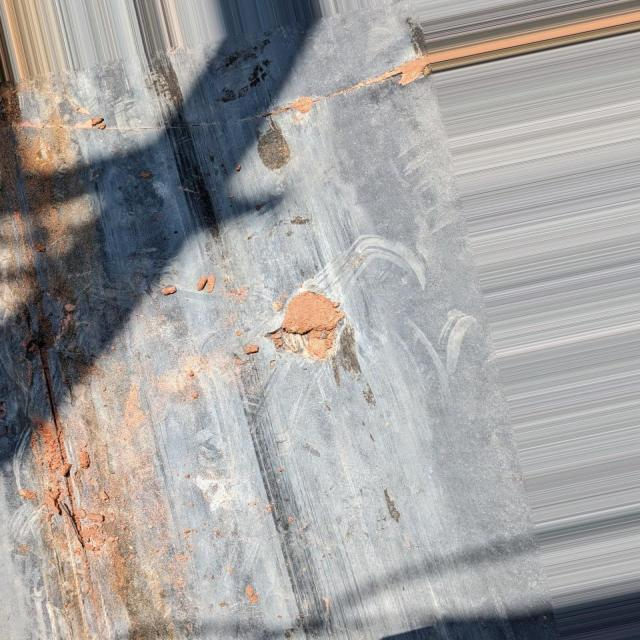impact damage: (14, 119, 148, 570)
